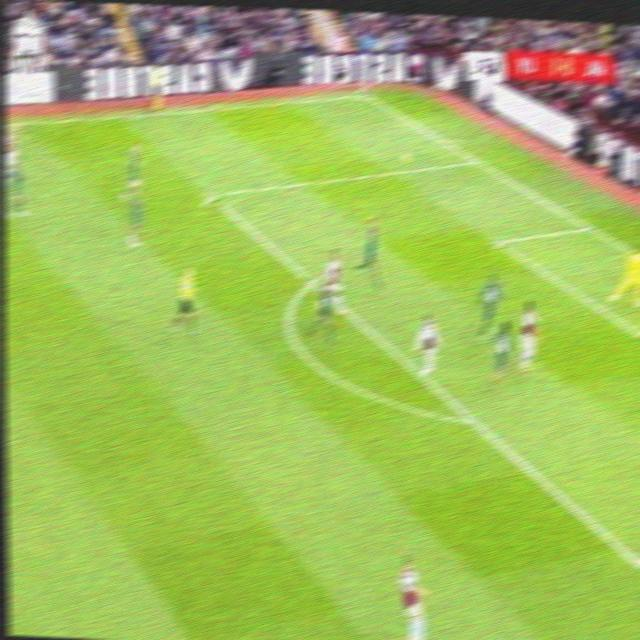bigarea_top_inner: (202, 182, 223, 206)
bigarea_top_outter: (470, 151, 485, 169)
bottom_arc_area_intersection: (460, 406, 482, 433)
corner: (354, 88, 372, 100)
smallarea_top_inner: (490, 232, 507, 252)
smallarea_top_outter: (580, 218, 600, 237)
top_arc_area_intersection: (303, 271, 320, 293)
